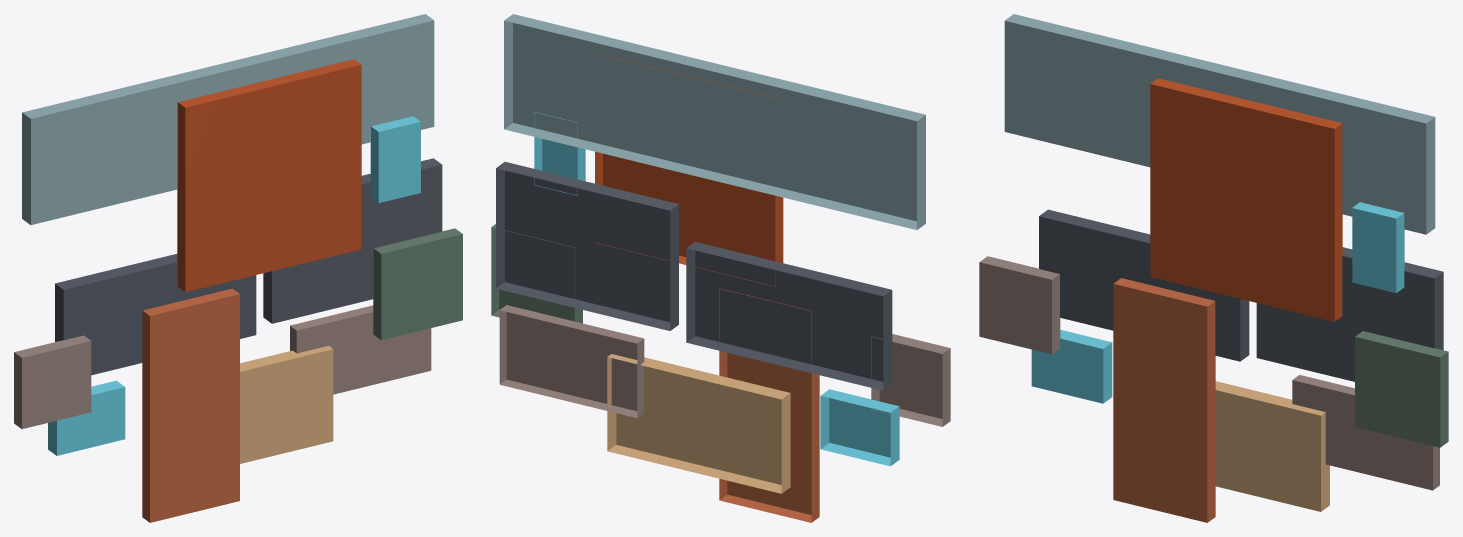
File: SO_picture11.fbx
3 renders of one model, left to right at view 1: azimuth 30°, elevation 25°; view 2: azimuth 150°, elevation 25°; view 3: azimuth 330°, elevation 25°, orthographic. The views are drawn at different scales.
Visible parts, largest first — view 1: SO_pictures11; view 2: SO_pictures11; view 3: SO_pictures11.
Boxes of the visible parts, x1,y1,x2,y2 form: SO_pictures11: [14, 14, 462, 522]; SO_pictures11: [491, 14, 950, 522]; SO_pictures11: [979, 14, 1448, 522].
Size of the model in its own units: 73.74 by 68.05 by 5.55.
